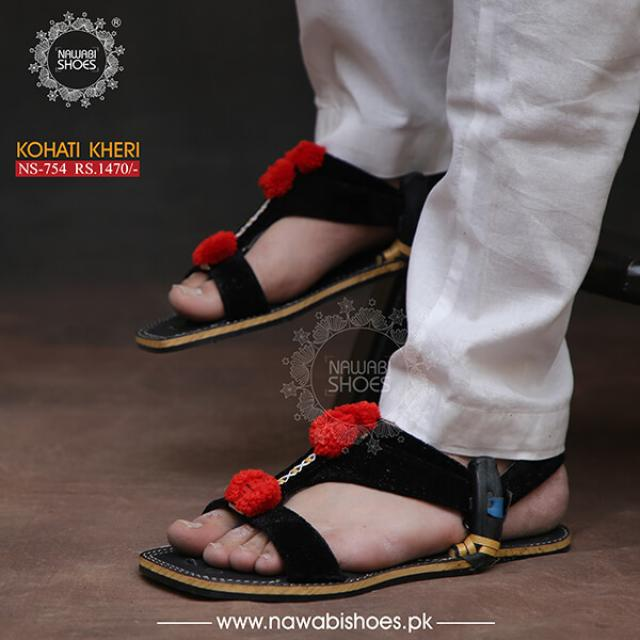Sandals: (140, 406, 573, 598)
